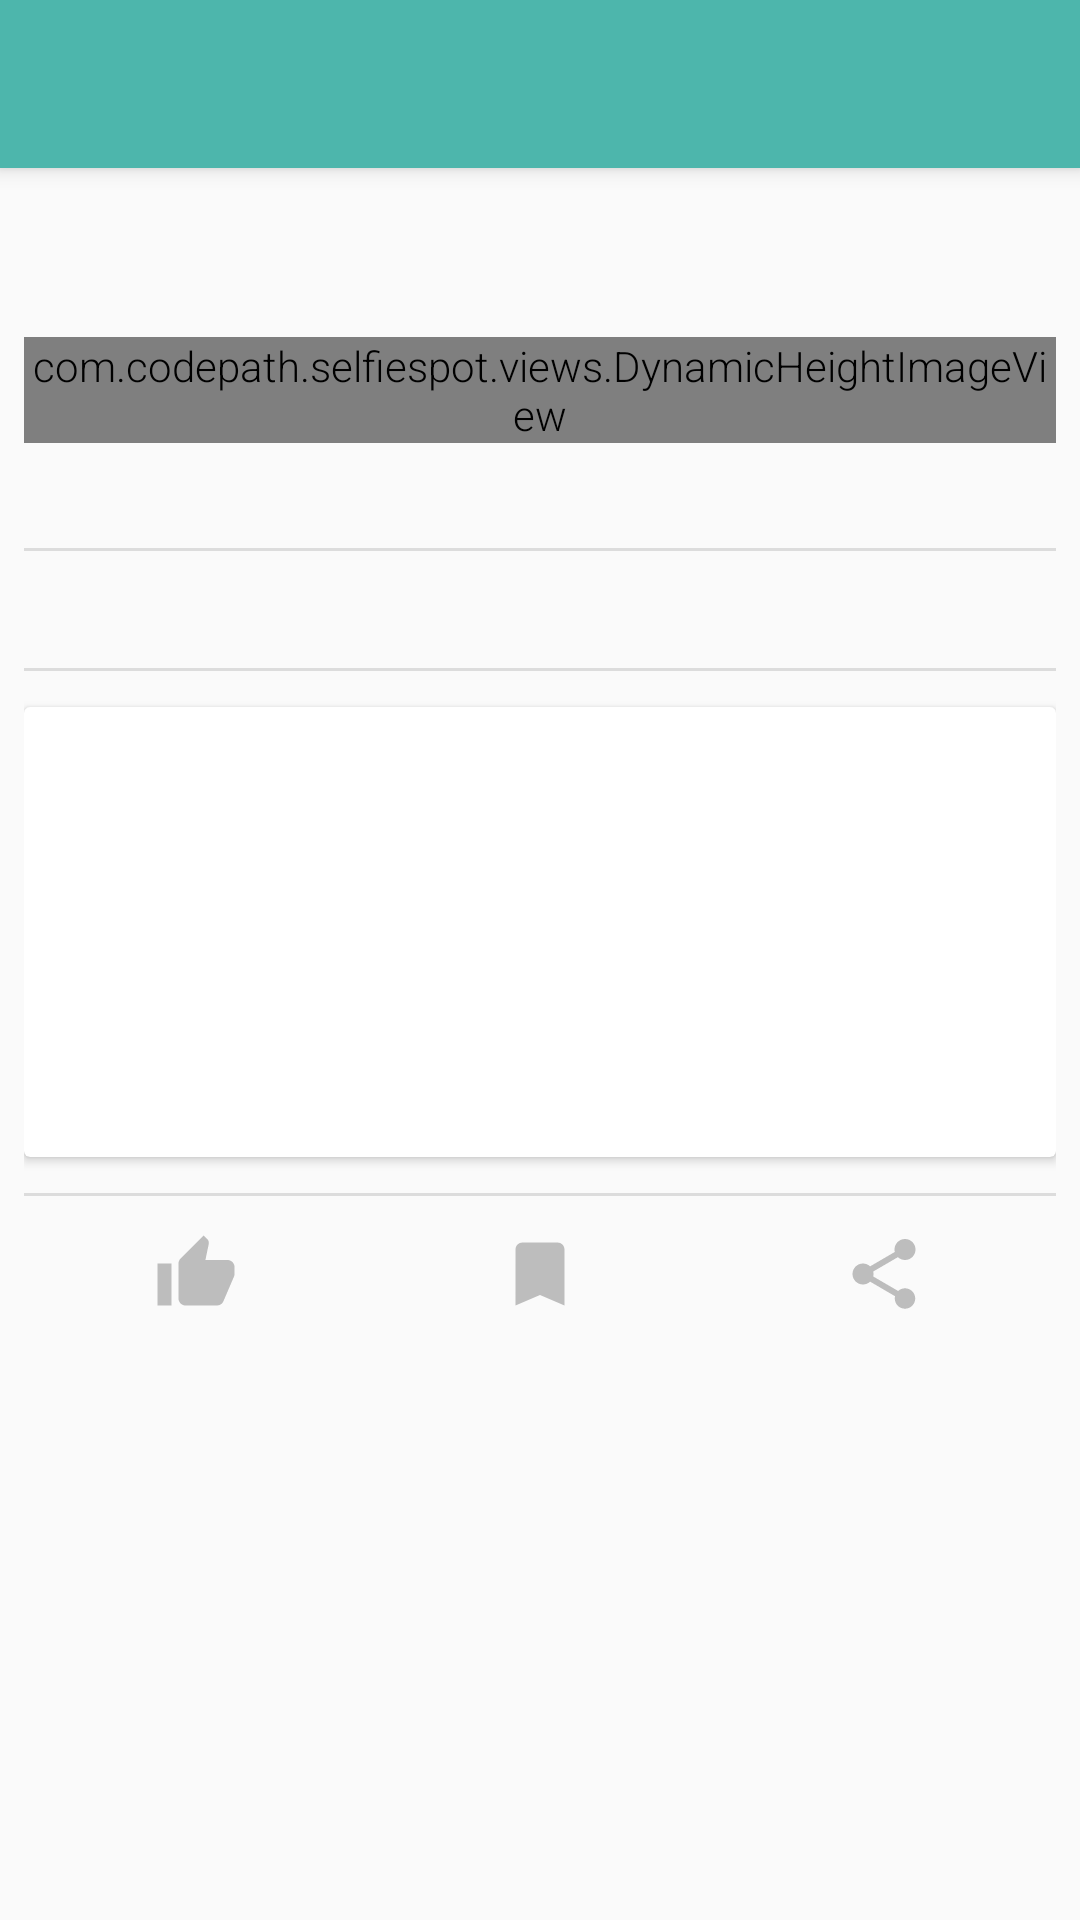

Point at icon controls on the screen. Image size 1080x1920, points as [x,y].
bookmark: [540,1273]
share: [884,1274]
thumb up: [196,1271]
